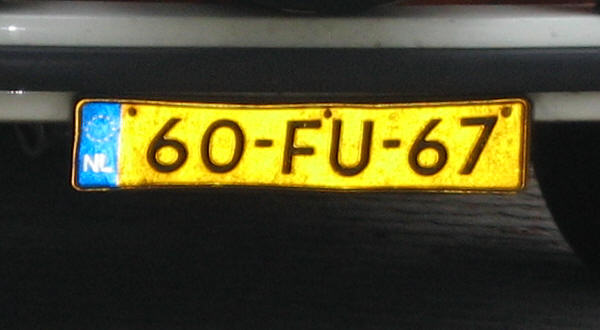license_plate: (71, 97, 527, 194)
